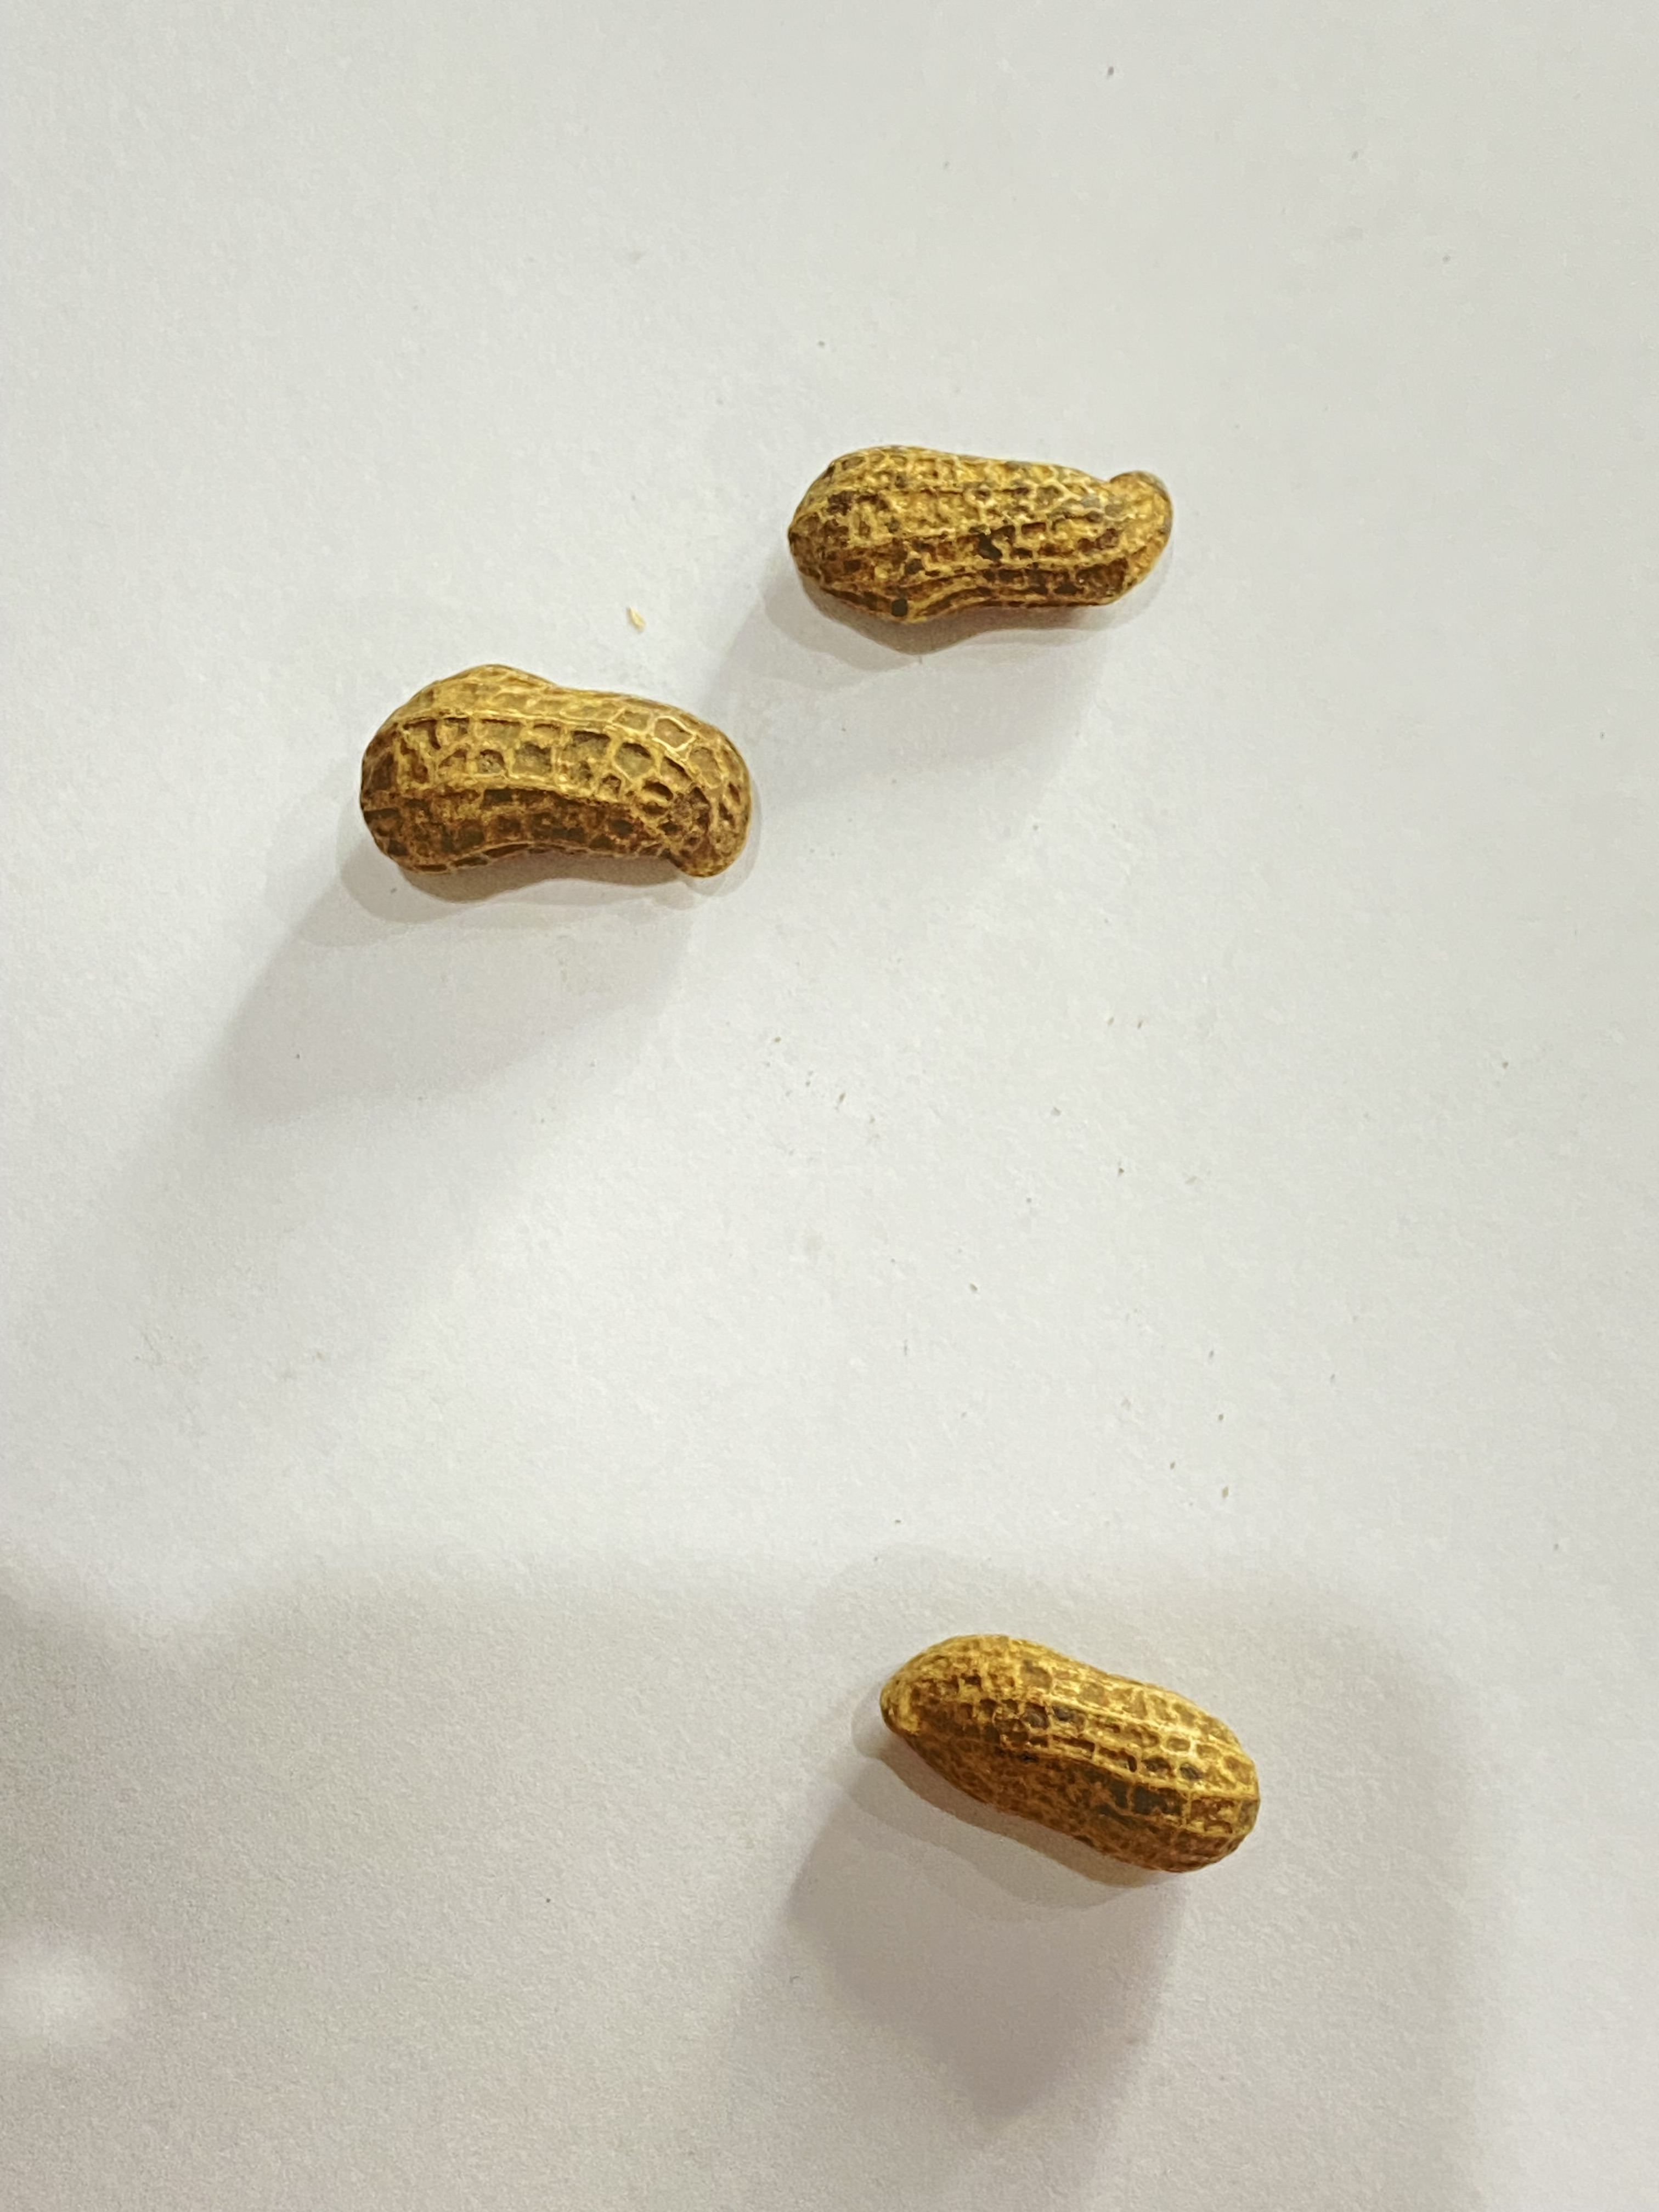kacang2: (863, 1590, 1342, 1890), (319, 620, 775, 914), (784, 415, 1194, 625)
